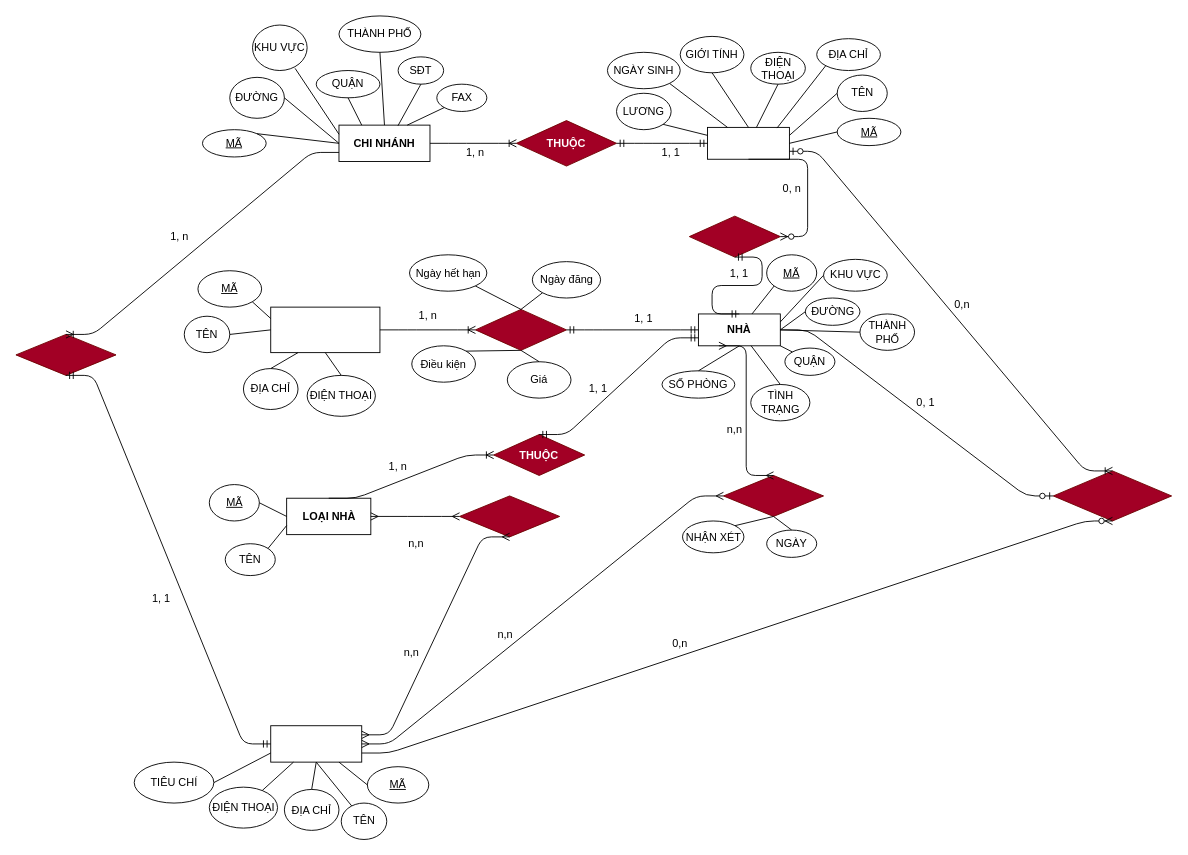
The diagram is 1188 pixels wide and 855 high, and some of its shapes have lost their labels. Each missing label, with the centre of its shape:
"CHỦ SỞ HỮU" goes at point 325,329.
"HỢP ĐỒNG" goes at point 1112,495.
"KHÁNG HÀNG" goes at point 316,743.
"NHÂN VIÊN" goes at point 748,142.
"PHỤ TRÁCH" goes at point 734,236.
"QUẢN LÝ" goes at point 65,354.
"XEM" goes at point 773,495.
"YÊU CẦU" goes at point 509,516.
"ĐĂNG BÀI" goes at point 520,329.
